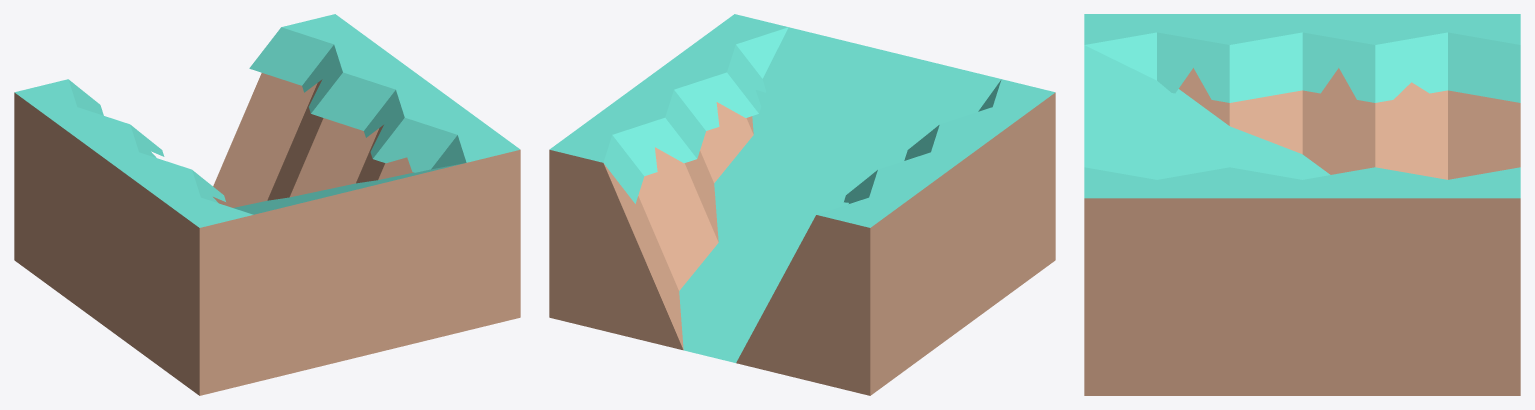
The model's file is cliff_blockSlopeHalfWalls_rock.glb.
3 views of the same model, side by side, from view 1: azimuth 30°, elevation 25°; view 2: azimuth 150°, elevation 25°; view 3: azimuth 270°, elevation 25° (orthographic). The views are drawn at different scales.
Visible parts, largest first — view 1: cliff_blockSlopeHalfWalls_rock; view 2: cliff_blockSlopeHalfWalls_rock; view 3: cliff_blockSlopeHalfWalls_rock.
Boxes of the visible parts, x1,y1,x2,y2 form: cliff_blockSlopeHalfWalls_rock: (14,14,520,395); cliff_blockSlopeHalfWalls_rock: (549,14,1055,395); cliff_blockSlopeHalfWalls_rock: (1084,14,1520,395).
Size of the model in its own units: 1 by 0.5 by 1.
